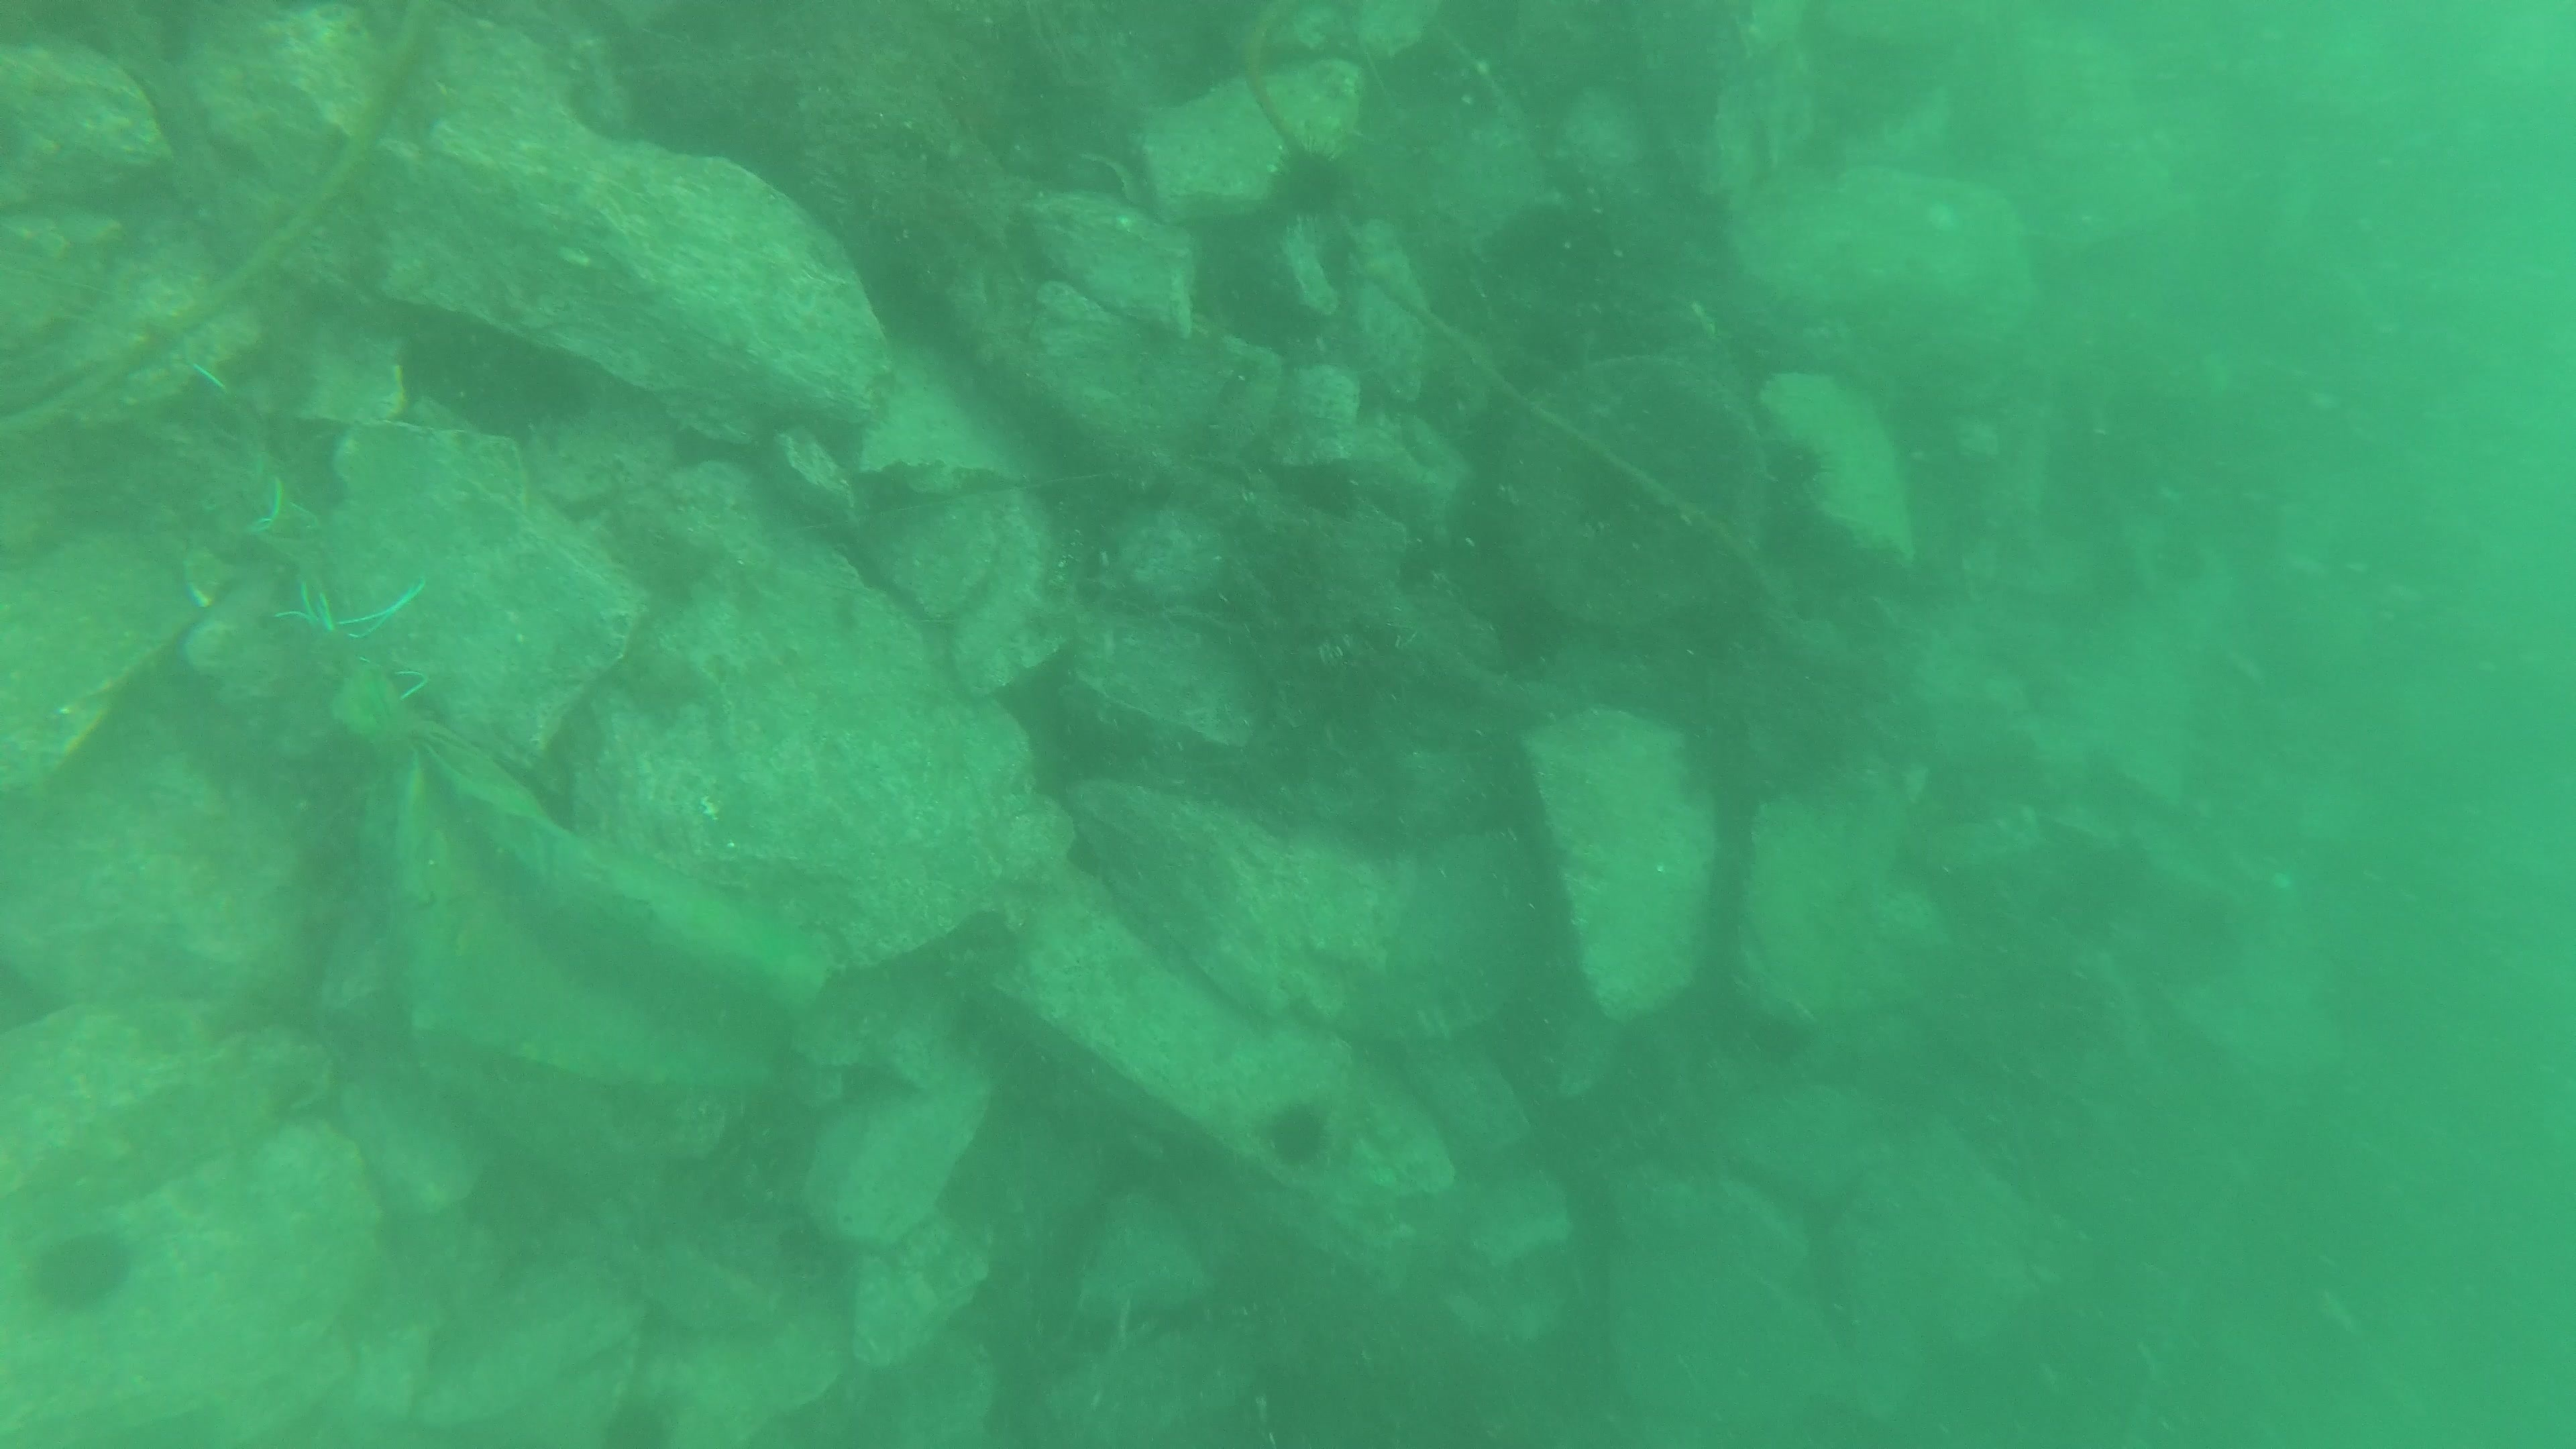echinus: (21, 1219, 140, 1322), (1263, 138, 1361, 228), (1254, 1092, 1341, 1177)
